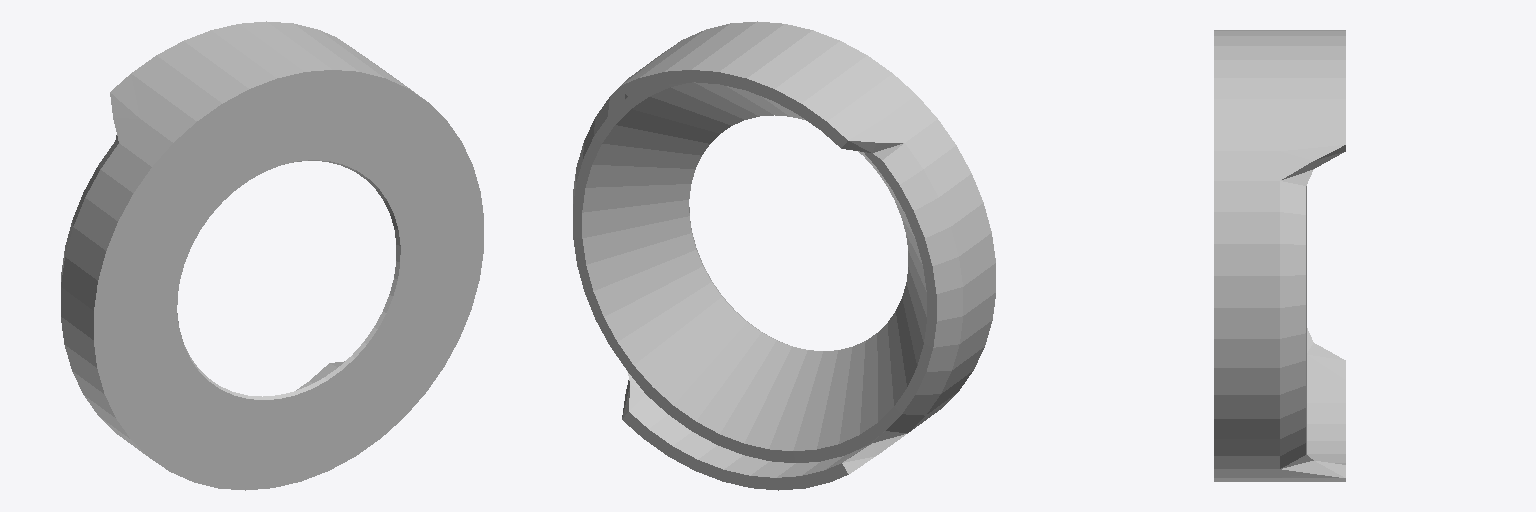
The model's file is RSP1D_Rahmen.obj.
3 views of the same model, side by side, from view 1: azimuth 30°, elevation 25°; view 2: azimuth 150°, elevation 25°; view 3: azimuth 270°, elevation 25° (orthographic).
Parts seen in each view (by area): view 1: polySurface1299 pCylinder133; view 2: polySurface1299 pCylinder133; view 3: polySurface1299 pCylinder133.
Part boxes in pixels (bbox=[...]): polySurface1299 pCylinder133: bbox=[61, 21, 483, 490]; polySurface1299 pCylinder133: bbox=[573, 21, 995, 490]; polySurface1299 pCylinder133: bbox=[1214, 30, 1345, 481].
Bounding box in the file's own units: 56.45 × 56.45 × 16.51.